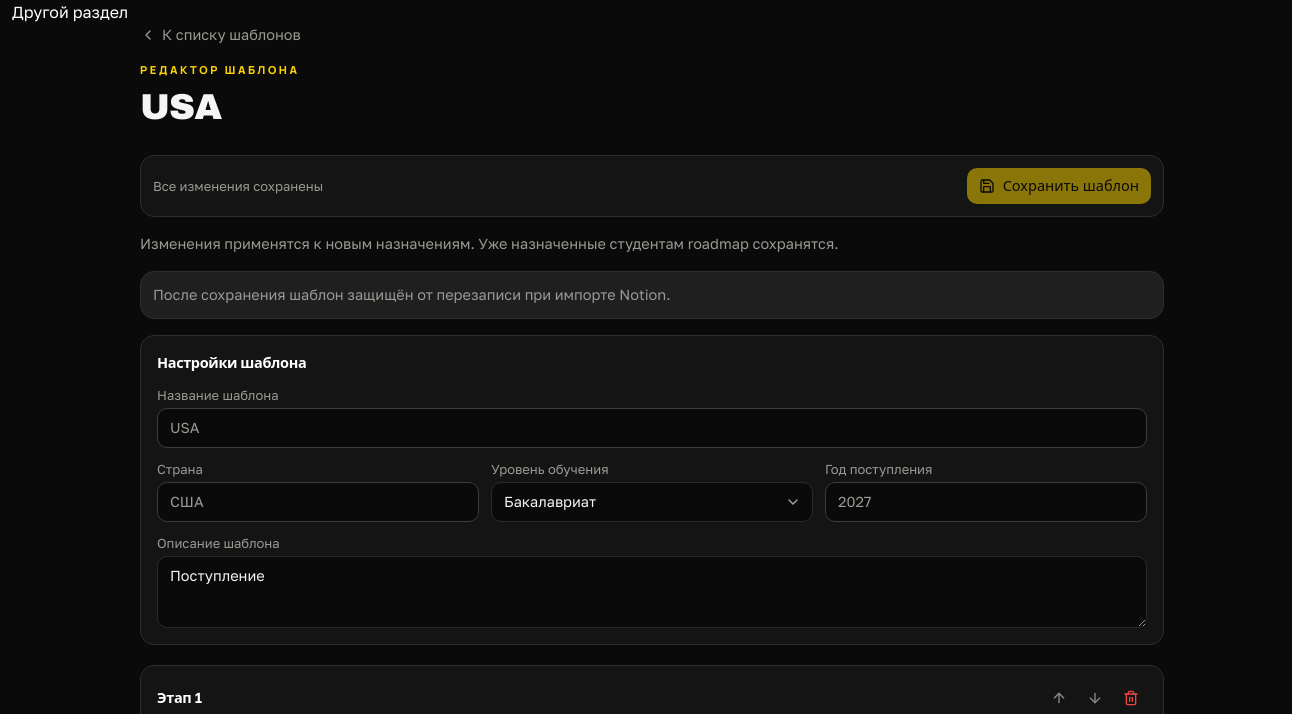
сохраняет общие настройки и все поля импортированных задач единым запросом
The image size is (1292, 714).
Replace the text in the field labelled "Название шаблона" with "USA 2028": (652, 428) [157,408,1147,448]
(page scrolled)
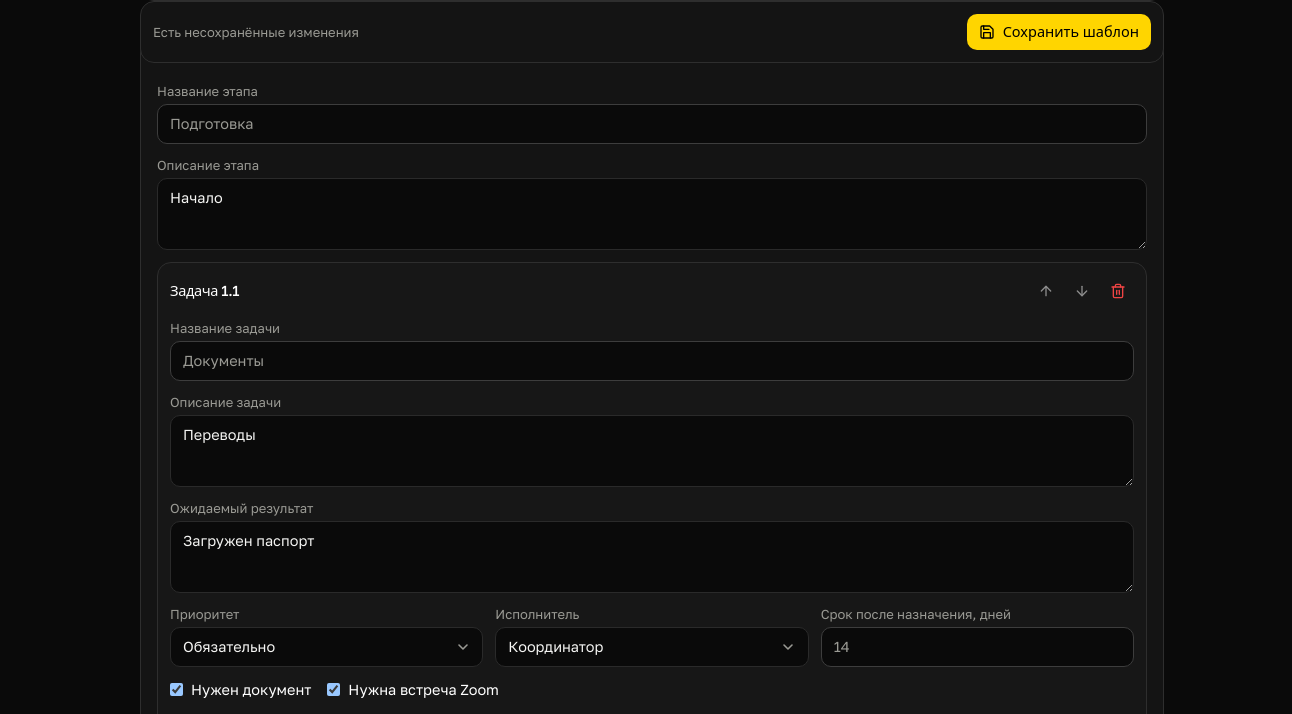
Replace the text in the field labelled "Название задачи" with "Паспорт": (652, 360) [170,340,1134,380]
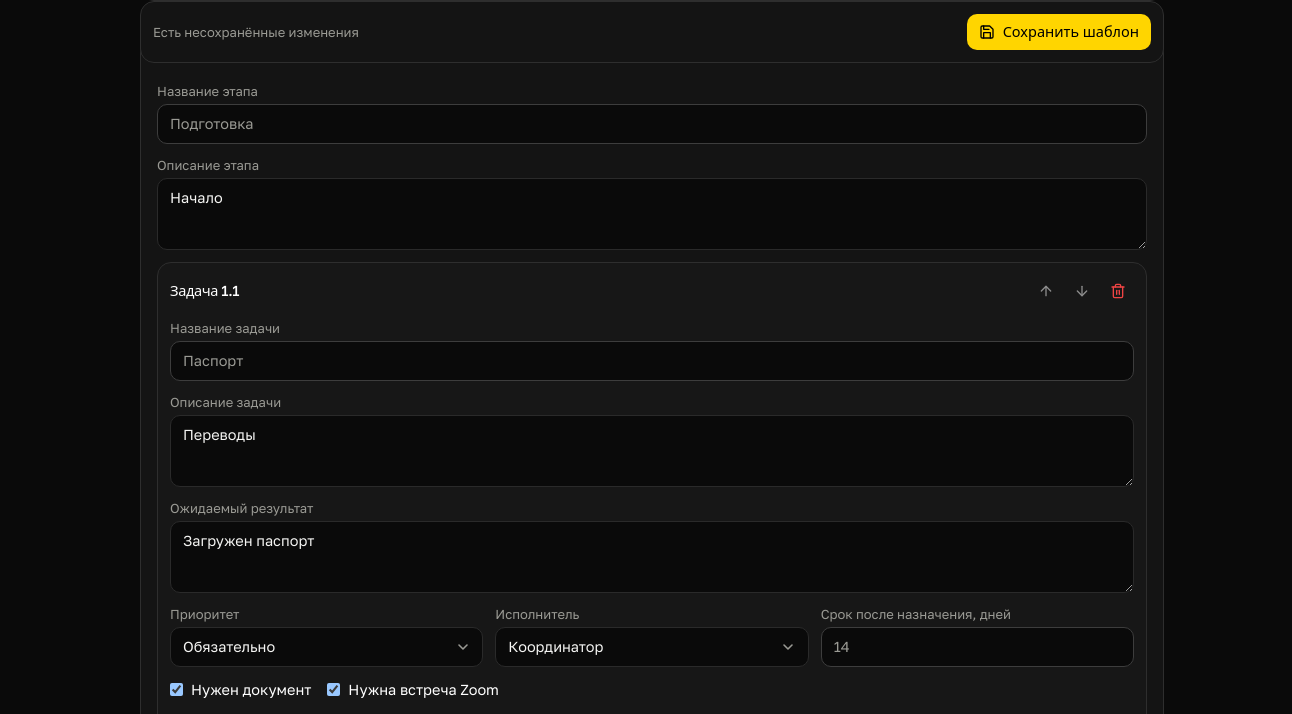
Click the button "Сохранить шаблон": (1059, 31) [967,13,1151,49]
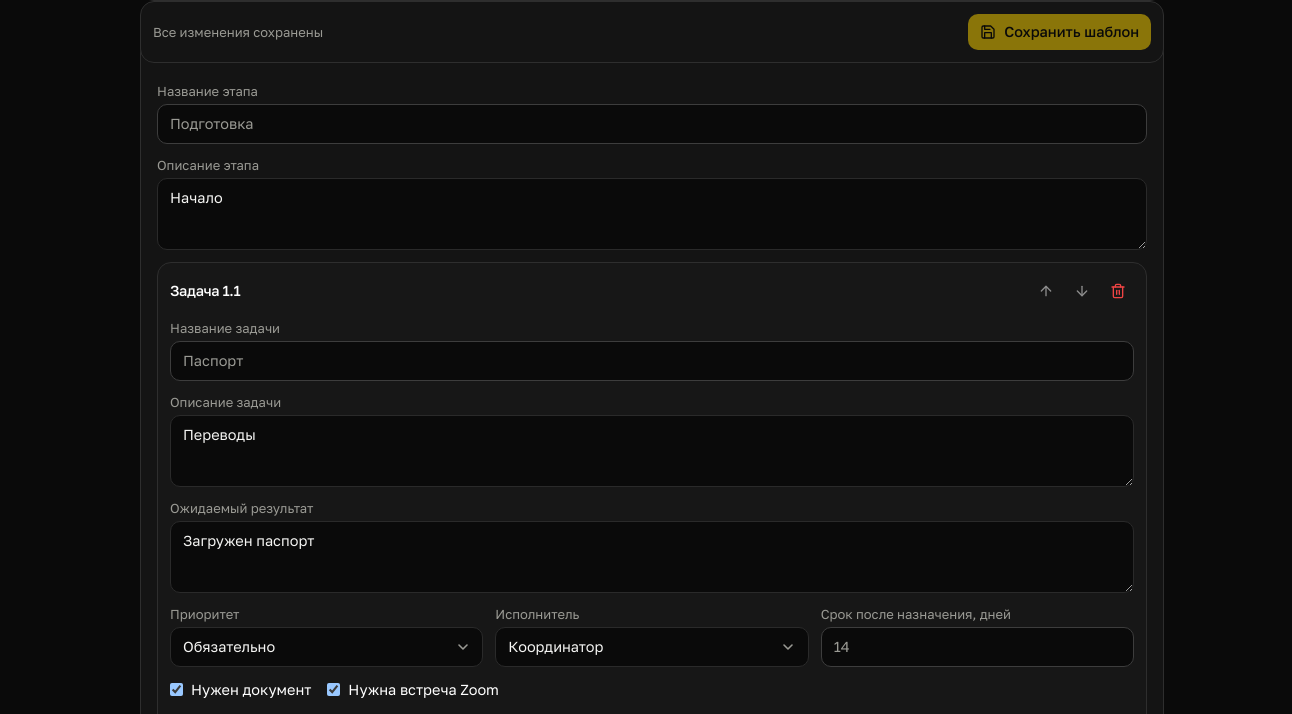
Result: the button "Сохранить шаблон" is disabled at [968,13,1151,49]
